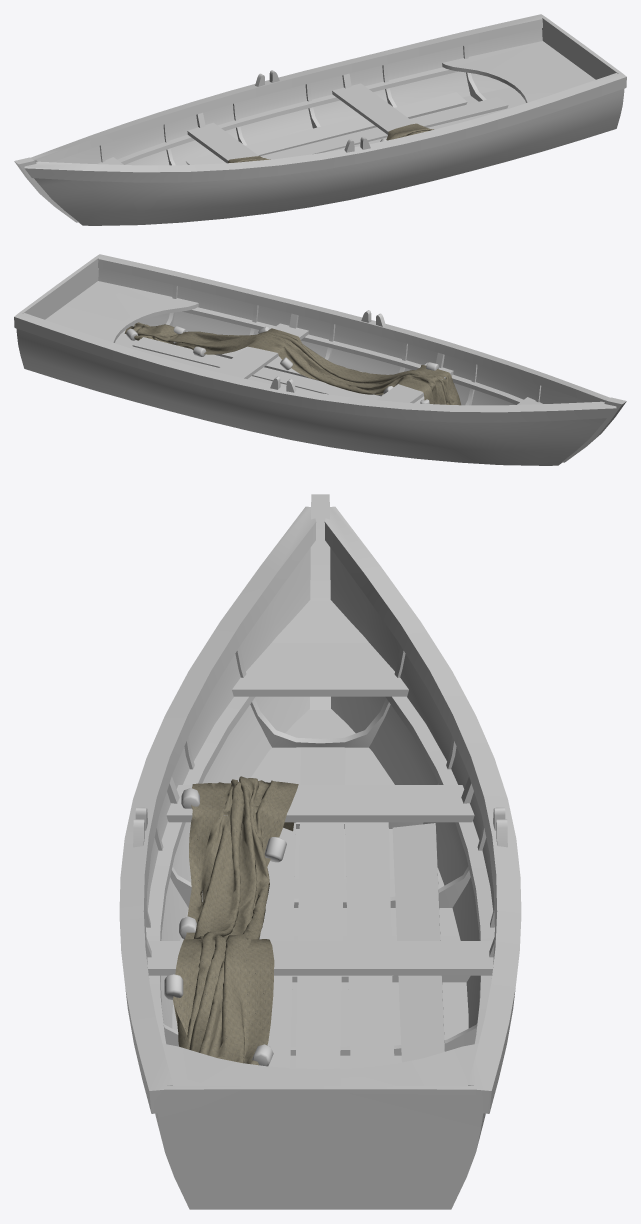
File: SM_Boat_1_net_01.fbx
The picture shows the model from 3 angles, top to bottom: view 1: azimuth 30°, elevation 25°; view 2: azimuth 150°, elevation 25°; view 3: azimuth 270°, elevation 25°; orthographic projection. The views are drawn at different scales.
Parts seen in each view (by area): view 1: SM_Boat_1_net_01_LOD0; view 2: SM_Boat_1_net_01_LOD0; view 3: SM_Boat_1_net_01_LOD0.
Boxes of the visible parts, bbox=[...] form: SM_Boat_1_net_01_LOD0: bbox=[14, 14, 626, 225]; SM_Boat_1_net_01_LOD0: bbox=[14, 254, 626, 465]; SM_Boat_1_net_01_LOD0: bbox=[119, 494, 521, 1209].
Bounding box in the file's own units: 603 × 185 × 83.83.
